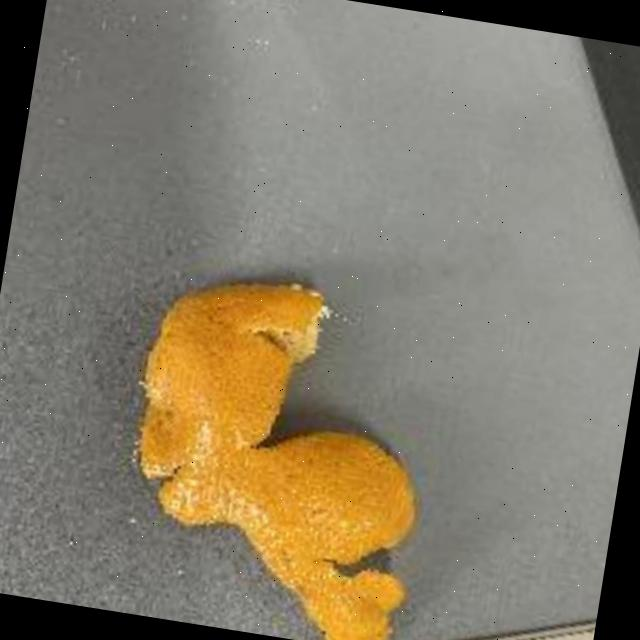orange-peel: (100, 255, 459, 640)
